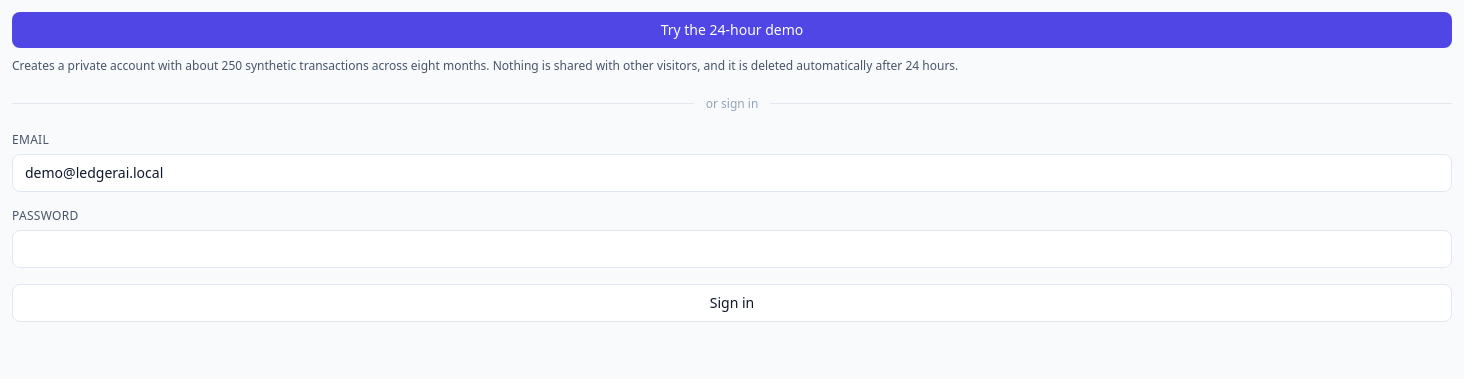
Scenario: credentials sign-in › reports a rejected sign-in without saying which field was wrong
In the password field labelled "Password": {"x": 732, "y": 248} [12,230,1452,268], type "wrong-password"
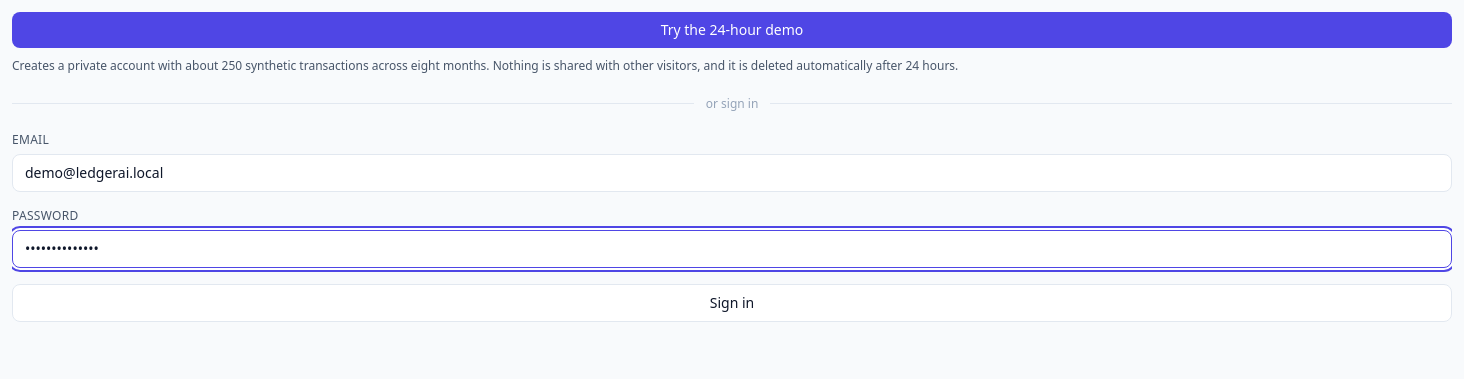
Click the button "Sign in": {"x": 732, "y": 302} [12,284,1452,322]
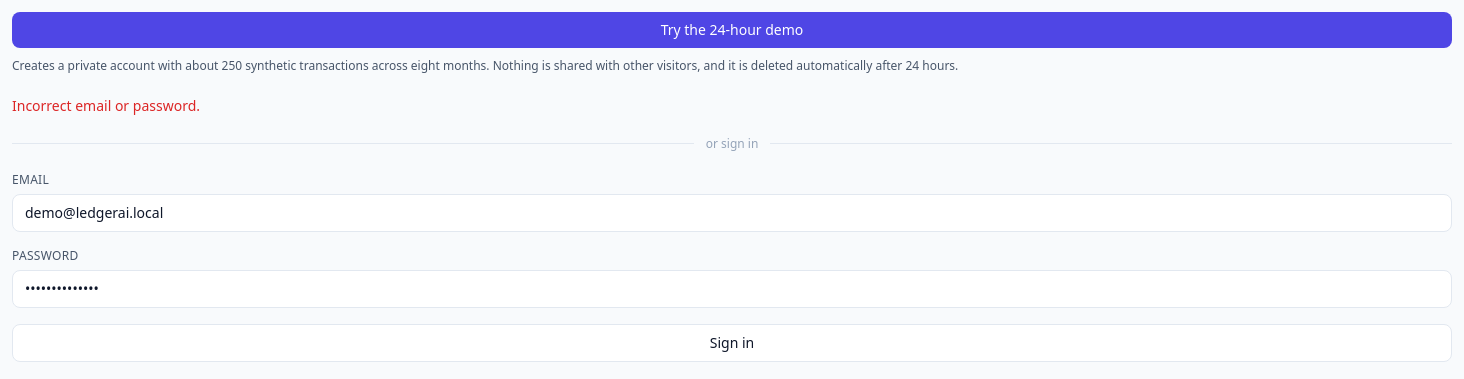
Expected: the message reads "Incorrect email or password.", [12,96,200,114]
